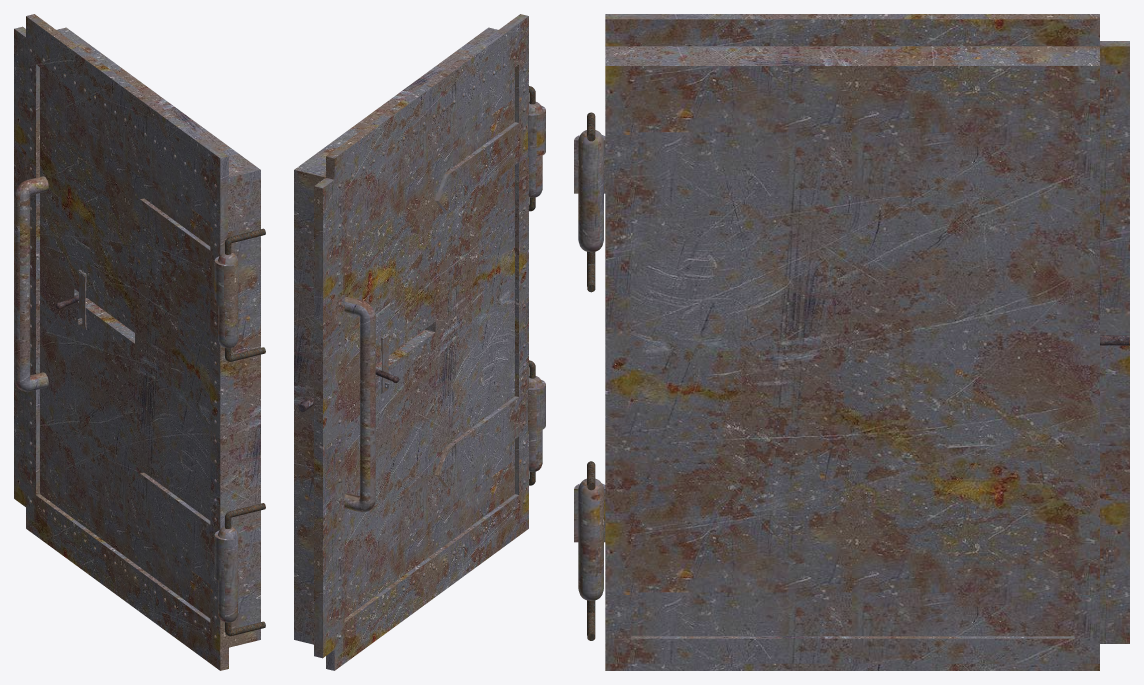
The model's file is Door1.FBX.
3 renders of one model, left to right at view 1: azimuth 30°, elevation 25°; view 2: azimuth 150°, elevation 25°; view 3: azimuth 270°, elevation 25°, orthographic. The views are drawn at different scales.
Visible parts, largest first — view 1: Sphere001, Hinge_Mounts; view 2: Sphere001, Hinge_Mounts; view 3: Sphere001, Hinge_Mounts.
Boxes of the visible parts, x1=… form: Sphere001: x1=14, y1=14, x2=260, y2=670; Hinge_Mounts: x1=225, y1=228, x2=265, y2=636; Sphere001: x1=294, y1=14, x2=545, y2=670; Hinge_Mounts: x1=529, y1=86, x2=535, y2=485; Sphere001: x1=574, y1=14, x2=1129, y2=670; Hinge_Mounts: x1=587, y1=112, x2=595, y2=640.
Bounding box in the file's own units: 90.55 × 675 × 522.
Materials: 4 (4 with a texture image).
